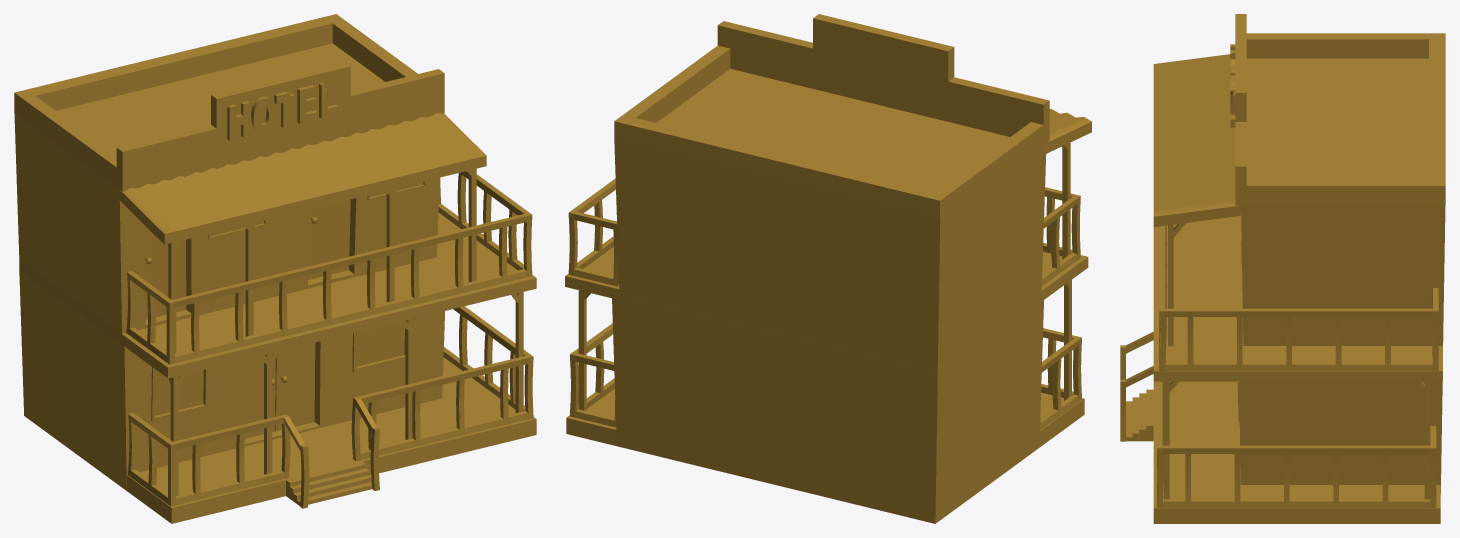
Rendered from S_hotel.fbx.
3 renders of one model, left to right at view 1: azimuth 30°, elevation 25°; view 2: azimuth 150°, elevation 25°; view 3: azimuth 270°, elevation 25°, orthographic. The views are drawn at different scales.
Parts seen in each view (by area): view 1: pCube8, polySurface31, polySurface22, polySurface26, pCube4, pCube7, polySurface20, polySurface96, polySurface100, polySurface99, polySurface94, polySurface25 (+10 smaller); view 2: polySurface22, polySurface20, pCube8, polySurface31, pCube4, pCube7, polySurface27, polySurface29, polySurface28, polySurface26; view 3: polySurface22, polySurface20, polySurface31, pCube4, pCube7, pCube8, polySurface26, pCube14, polySurface25, polySurface27, polySurface29, polySurface28 (+1 smaller).
Boxes of the visible parts, left/top/right/bottom form: pCube8: left=14, top=14, right=444, bottom=191; polySurface31: left=126, top=171, right=533, bottom=508; polySurface22: left=14, top=43, right=384, bottom=333; polySurface26: left=120, top=113, right=486, bottom=233; pCube4: left=19, top=212, right=536, bottom=378; pCube7: left=127, top=357, right=536, bottom=523; polySurface20: left=19, top=270, right=126, bottom=490; polySurface96: left=124, top=311, right=444, bottom=488; polySurface100: left=119, top=200, right=279, bottom=333; polySurface99: left=279, top=177, right=439, bottom=293; polySurface94: left=242, top=343, right=315, bottom=438; polySurface25: left=119, top=154, right=486, bottom=244; polySurface22: left=614, top=69, right=1046, bottom=366; polySurface20: left=612, top=298, right=1043, bottom=523; pCube8: left=614, top=14, right=1049, bottom=220; polySurface31: left=568, top=178, right=1081, bottom=429; pCube4: left=565, top=247, right=1088, bottom=377; pCube7: left=566, top=388, right=1084, bottom=447; polySurface27: left=578, top=290, right=590, bottom=410; polySurface29: left=1062, top=142, right=1070, bottom=259; polySurface28: left=1064, top=280, right=1071, bottom=400; polySurface26: left=1047, top=109, right=1091, bottom=142; polySurface22: left=1241, top=58, right=1445, bottom=345; polySurface20: left=1239, top=381, right=1442, bottom=493; polySurface31: left=1120, top=225, right=1438, bottom=507; pCube4: left=1153, top=212, right=1442, bottom=381; pCube7: left=1153, top=381, right=1440, bottom=523; pCube8: left=1235, top=14, right=1445, bottom=205; polySurface26: left=1153, top=54, right=1238, bottom=216; pCube14: left=1126, top=389, right=1153, bottom=441; polySurface25: left=1153, top=205, right=1240, bottom=226; polySurface27: left=1416, top=381, right=1430, bottom=499; polySurface29: left=1168, top=223, right=1185, bottom=346; polySurface28: left=1164, top=381, right=1178, bottom=499.
Bounding box in the file's own units: 732 × 701 × 571.
